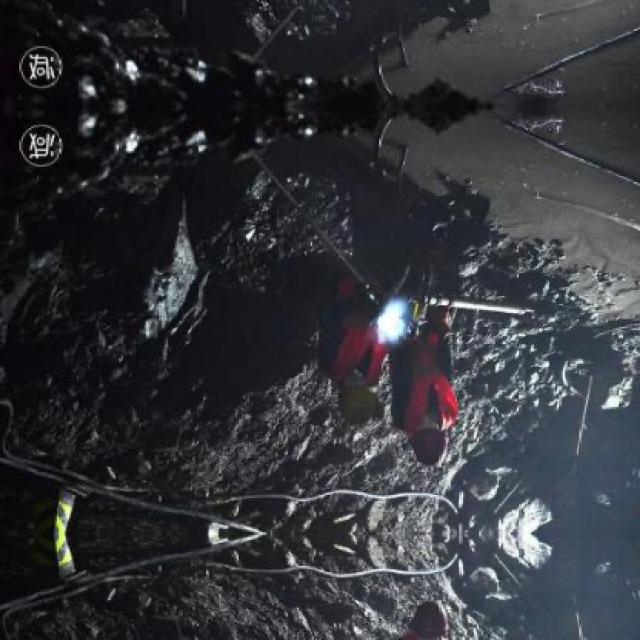con casco: (395, 404, 468, 464), (334, 383, 386, 437)
